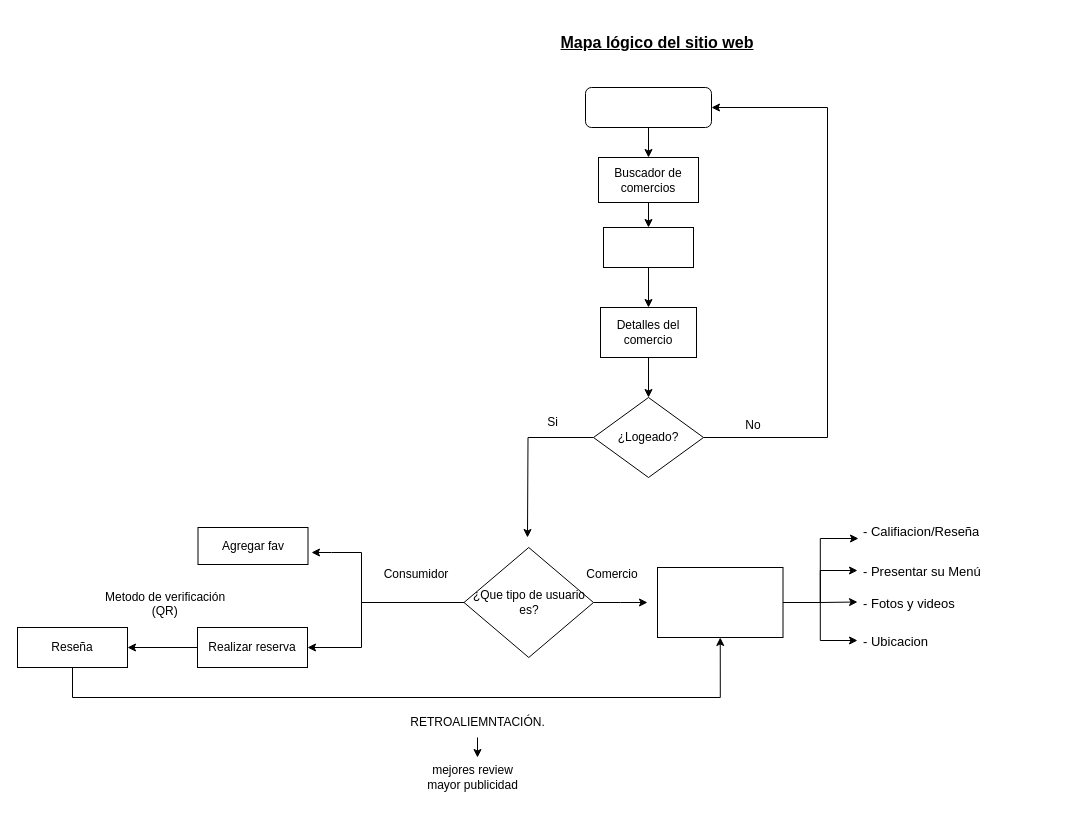
Some shapes in this 1065 by 814 pixel diagram are drawn without their labels. Here are the shapes that lost their labels. From the top down, the centre of each, then its label:
At point (648, 107): "HOME".
At point (648, 247): "Seleccionar Comercio".
At point (719, 602): "Publicitar tu establecimiento".
